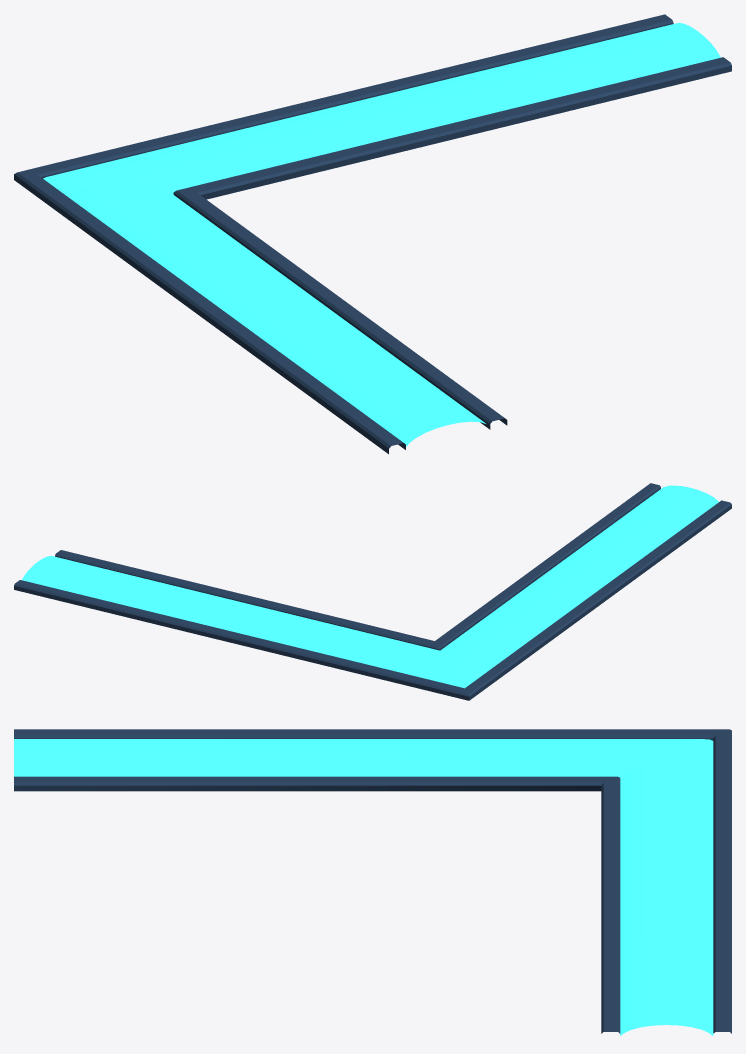
Rendered from Light_Trim_01_SquareCorner.fbx.
3 renders of one model, top to bottom at view 1: azimuth 30°, elevation 25°; view 2: azimuth 150°, elevation 25°; view 3: azimuth 270°, elevation 25°, orthographic. The views are drawn at different scales.
Visible parts, largest first — view 1: Light_Trim_01_SquareCorner.001; view 2: Light_Trim_01_SquareCorner.001; view 3: Light_Trim_01_SquareCorner.001.
Boxes of the visible parts, x1,y1,x2,y2 form: Light_Trim_01_SquareCorner.001: [14, 14, 731, 454]; Light_Trim_01_SquareCorner.001: [14, 483, 731, 700]; Light_Trim_01_SquareCorner.001: [14, 729, 731, 1035].
Bounding box in the file's own units: 0.55 × 0.0123 × 0.55.
